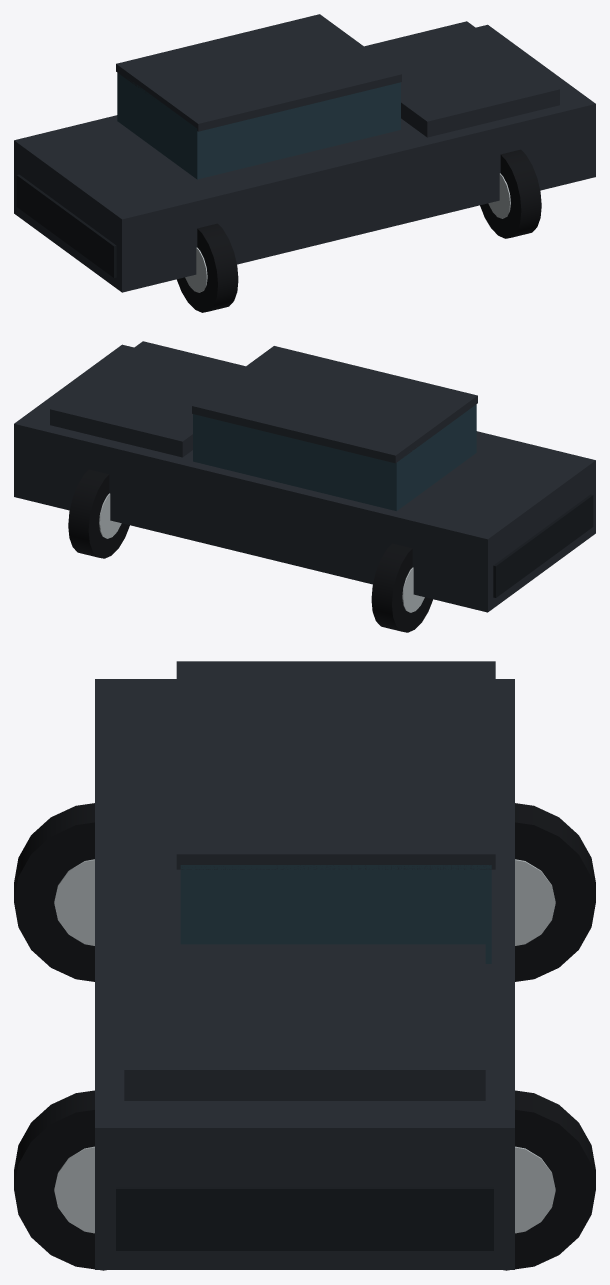
File: lambo_urus.glb
The picture shows the model from 3 angles, top to bottom: view 1: azimuth 30°, elevation 25°; view 2: azimuth 150°, elevation 25°; view 3: azimuth 270°, elevation 25°; orthographic projection. The views are drawn at different scales.
Parts seen in each view (by area): view 1: body, roof, cabin, hood, front_right_wheel, rear_right_wheel, rear_bumper; view 2: body, roof, cabin, hood, front_left_wheel, rear_left_wheel, rear_bumper; view 3: body, roof, hood, cabin, front_bumper, front_left_wheel, front_right_wheel, rear_left_wheel, rear_right_wheel.
Boxes of the visible parts, x1,y1,x2,y2 form: body: (14, 24, 595, 292); roof: (116, 14, 401, 131); cabin: (117, 73, 400, 179); hood: (364, 21, 559, 137); front_right_wheel: (480, 149, 541, 238); rear_right_wheel: (176, 223, 238, 312); rear_bumper: (16, 174, 116, 277); body: (14, 344, 595, 612); roof: (192, 346, 477, 463); cabin: (193, 404, 476, 511); hood: (50, 341, 245, 457); front_left_wheel: (68, 469, 129, 558); rear_left_wheel: (371, 543, 432, 632); rear_bumper: (493, 494, 593, 597); body: (95, 679, 514, 1269); roof: (176, 661, 495, 869); hood: (124, 944, 485, 1100); cabin: (180, 865, 491, 963); front_bumper: (116, 1186, 493, 1250); front_left_wheel: (503, 1090, 595, 1270); front_right_wheel: (14, 1090, 106, 1270); rear_left_wheel: (515, 803, 595, 981); rear_right_wheel: (14, 803, 94, 981).
Bounding box in the file's own units: 5.17 × 1.72 × 2.8.
